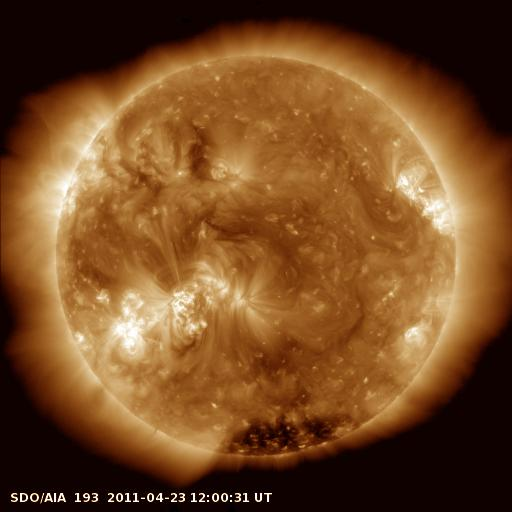coronal_hole: (215, 415, 361, 456)
